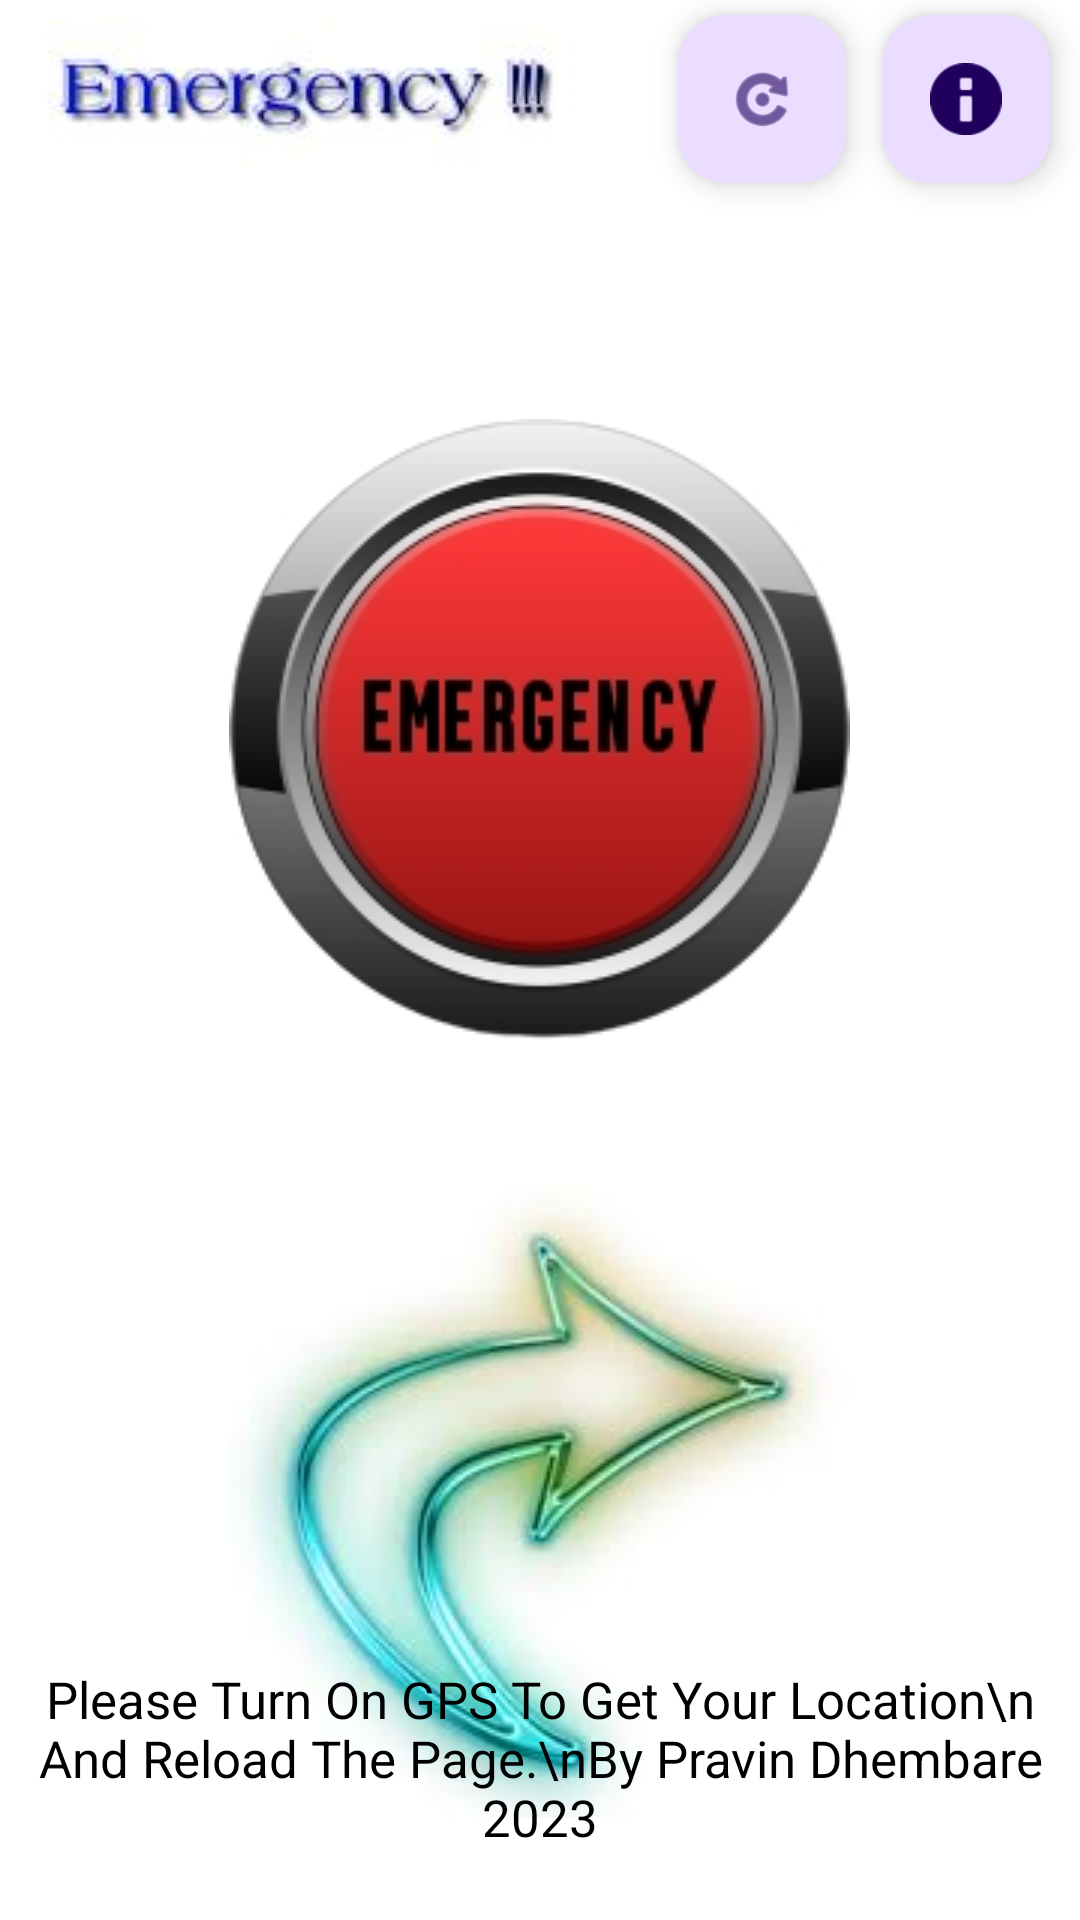

Named icons in this screenshot (1080px×1920px) and their centers, (x=x, y=y):
info: (x=966, y=99)
rotate: (x=762, y=99)
